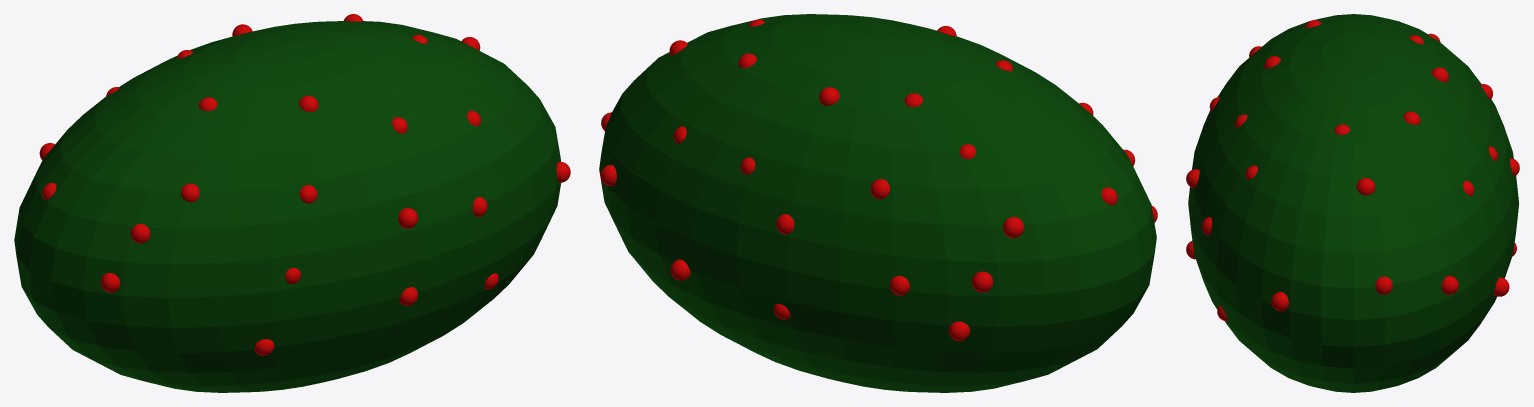
File: bush.obj
3 views of the same model, side by side, from view 1: azimuth 30°, elevation 25°; view 2: azimuth 150°, elevation 25°; view 3: azimuth 270°, elevation 25° (orthographic). The views are drawn at different scales.
Parts seen in each view (by area): view 1: Sphere; view 2: Sphere; view 3: Sphere.
Part boxes in pixels (x1,y1,x2,y2): Sphere: (14,21,560,392); Sphere: (599,14,1156,392); Sphere: (1188,14,1519,392).
Bounding box in the file's own units: 4 × 2.4 × 2.42.
